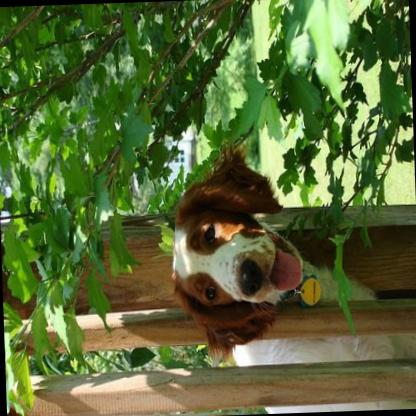Welsh_springer_spaniel: (162, 134, 416, 366)
